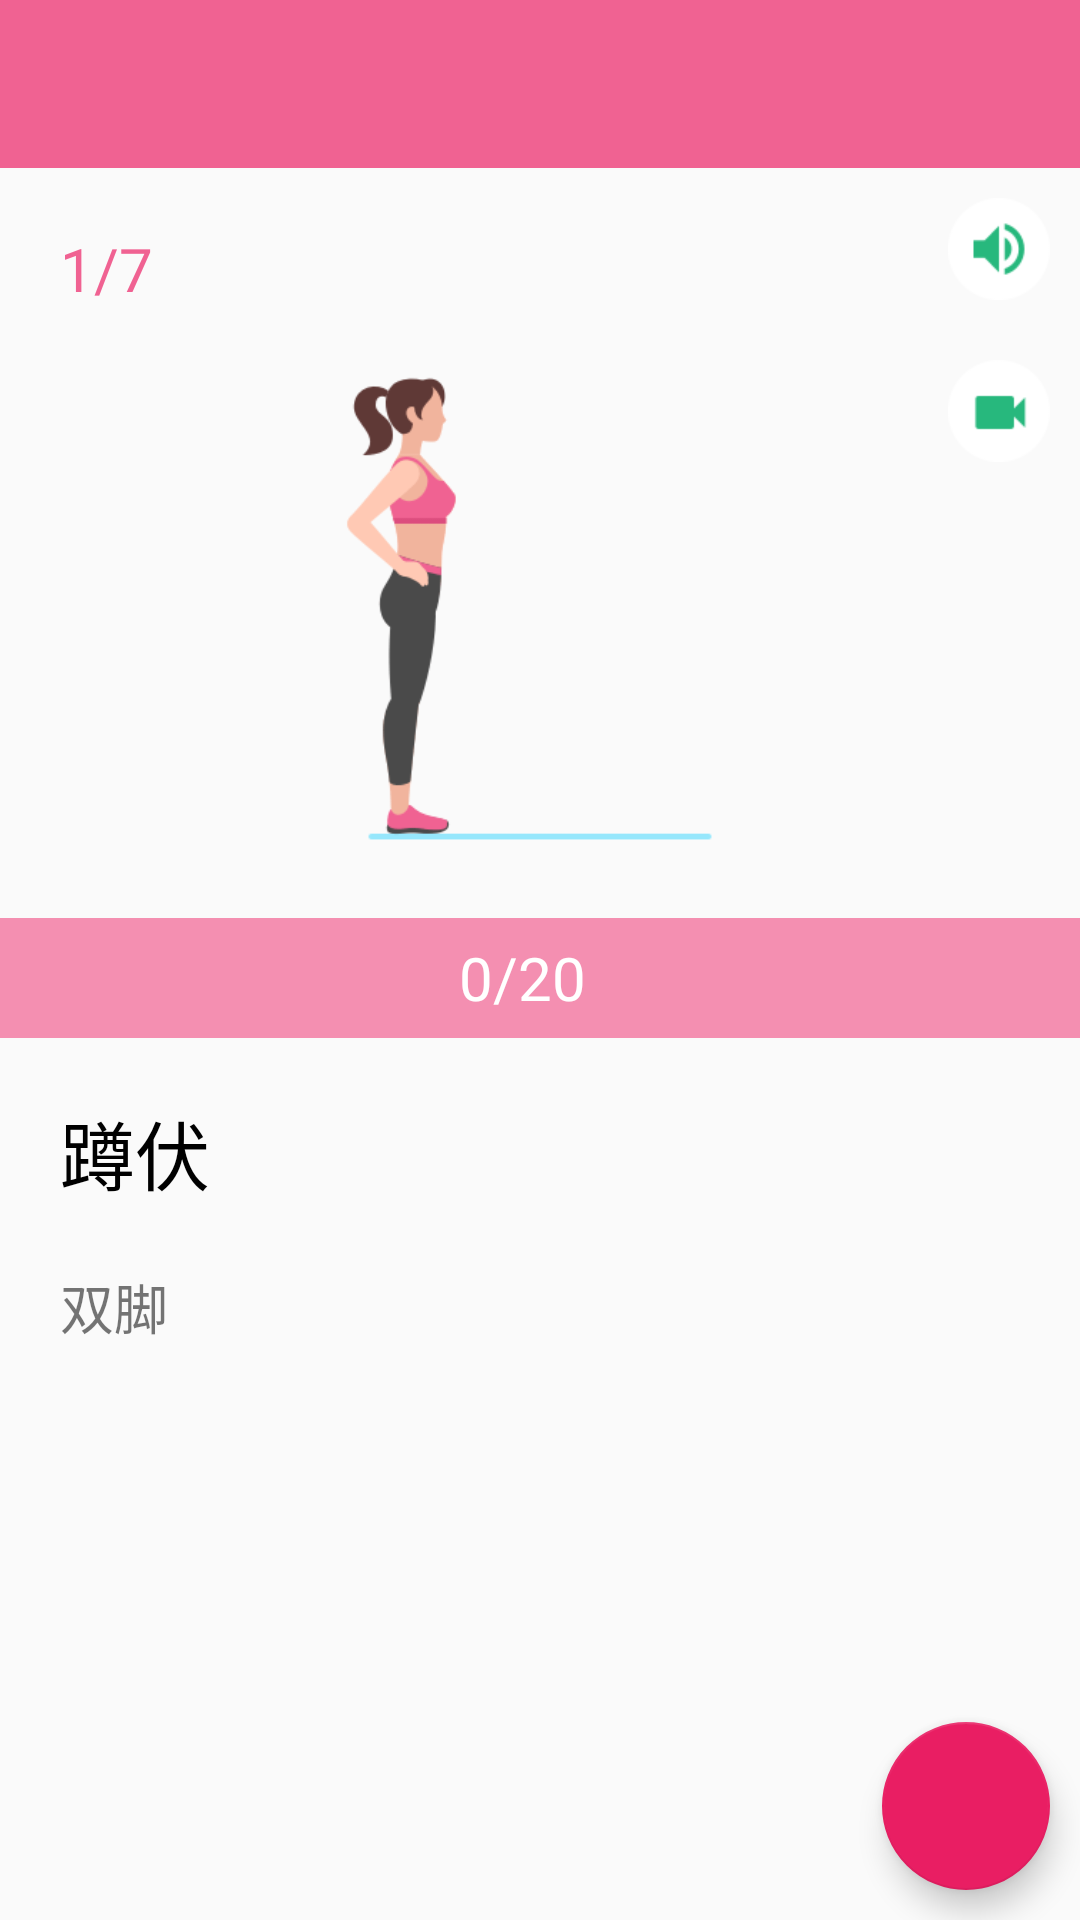

Icons on this 1080x1920 Android screen, each with its box as (x1, y1, x2, y2):
sound: (973, 223, 1025, 275)
video: (975, 395, 1026, 430)
